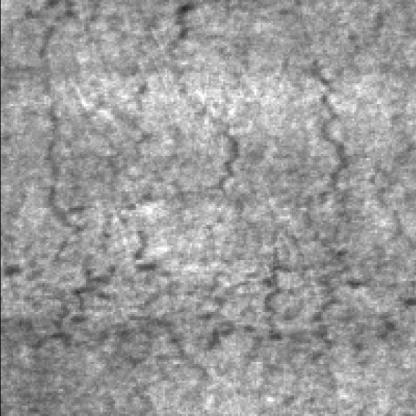crazing: (29, 6, 162, 368), (260, 6, 362, 362), (169, 9, 242, 376)
